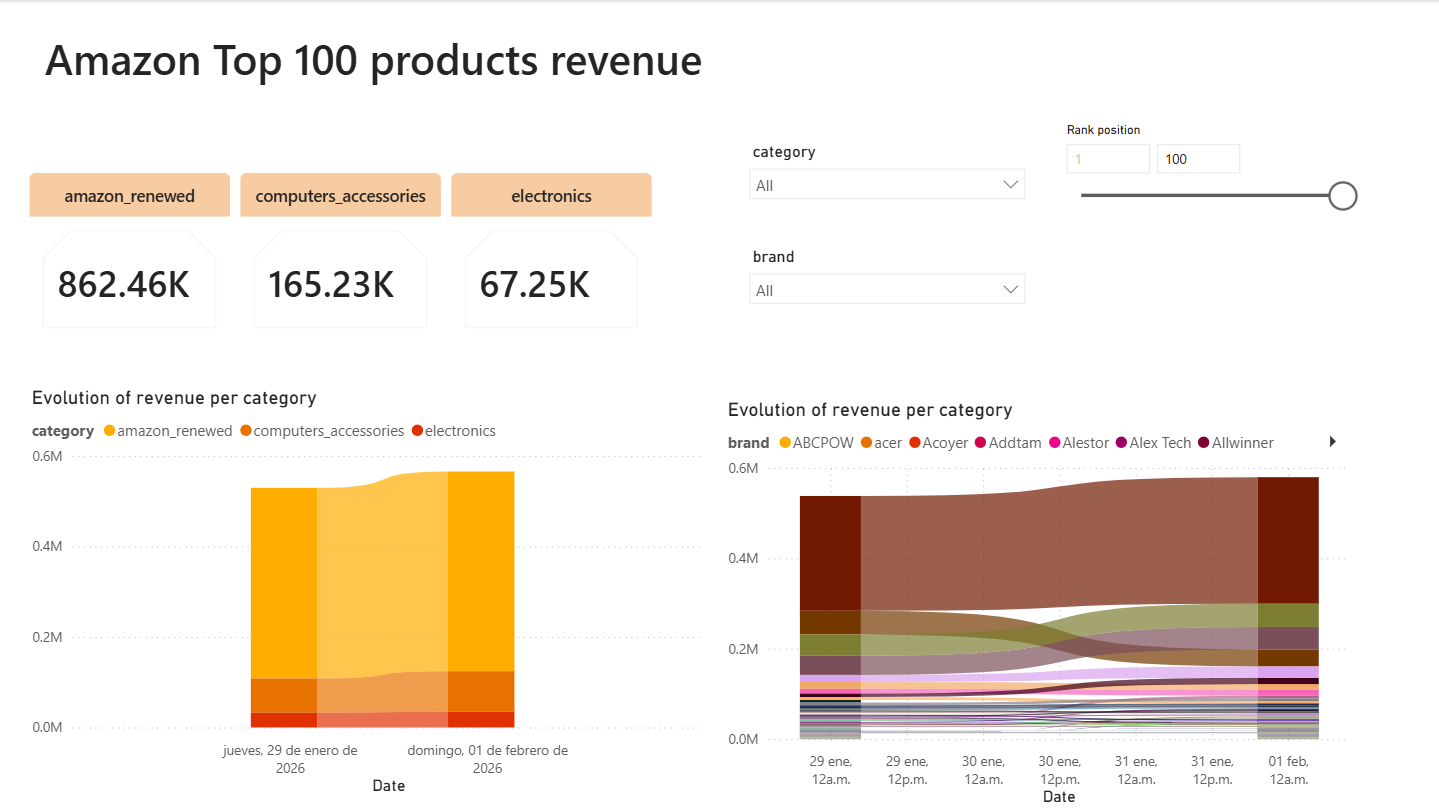

Layout of this report page (visuals, bound fields, positions):
{"tool":"powerbi","page":{"name":"Revenue","canvas":[1280,720],"ordinal":0},"visuals":[{"type":"slicer","fields":{"Values":["analytics times_in_top.category"]},"box":[654.6,121.6,264.6,65.2],"z":0},{"type":"ribbonChart","title":"Evolution of revenue per category","fields":{"Category":["core product_rank_history.scraped_at"],"Y":["Sum(core product_rank_history.price_on_date)"],"Series":["core product_rank_history.category"]},"box":[0,353.1,606.9,366.7],"z":1000},{"type":"cardVisual","fields":{"Data":["Sum(core product_rank_history.price_on_date)"],"Rows":["core product_rank_history.category"]},"box":[0,146.9,606.9,162.4],"z":2000},{"type":"slicer","fields":{"Values":["core product_rank_history.rank_position"]},"box":[932.8,104.1,279.1,93.4],"z":3000},{"type":"ribbonChart","title":"Evolution of revenue per category","fields":{"Category":["core product_rank_history.scraped_at"],"Y":["Sum(core product_rank_history.price_on_date)"],"Series":["analytics product_snapshot.brand"]},"box":[640,353.1,561.2,366.7],"z":4000},{"type":"slicer","fields":{"Values":["analytics product_snapshot.brand"]},"box":[654.6,215,264.6,62.2],"z":5000},{"type":"textbox","box":[34.6,21.3,781.2,82.5],"z":5001}]}

Visuals, with their boxes in screenshot pixels (x1, y1, x2, y2), scaled from the page's 1280x720 canvas onto the 1439x811 screenshot:
slicer - analytics times_in_top.category: crop(736, 137, 1033, 210)
"Evolution of revenue per category" ribbonChart: crop(0, 398, 682, 810)
cardVisual - Sum(core product_rank_history.price_on_date) x core product_rank_history.category: crop(0, 165, 682, 348)
slicer - core product_rank_history.rank_position: crop(1049, 117, 1362, 222)
"Evolution of revenue per category" ribbonChart: crop(720, 398, 1350, 810)
slicer - analytics product_snapshot.brand: crop(736, 242, 1033, 312)
textbox: crop(39, 24, 917, 117)
